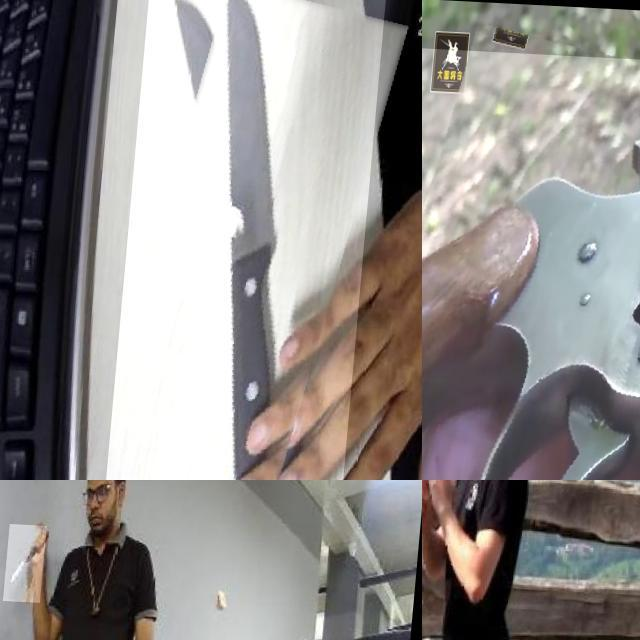-: (110, 0, 386, 480), (10, 521, 52, 600), (422, 480, 455, 541)
gun-knife-thesis - v11 Yolov5 augmented: (422, 48, 640, 480)
